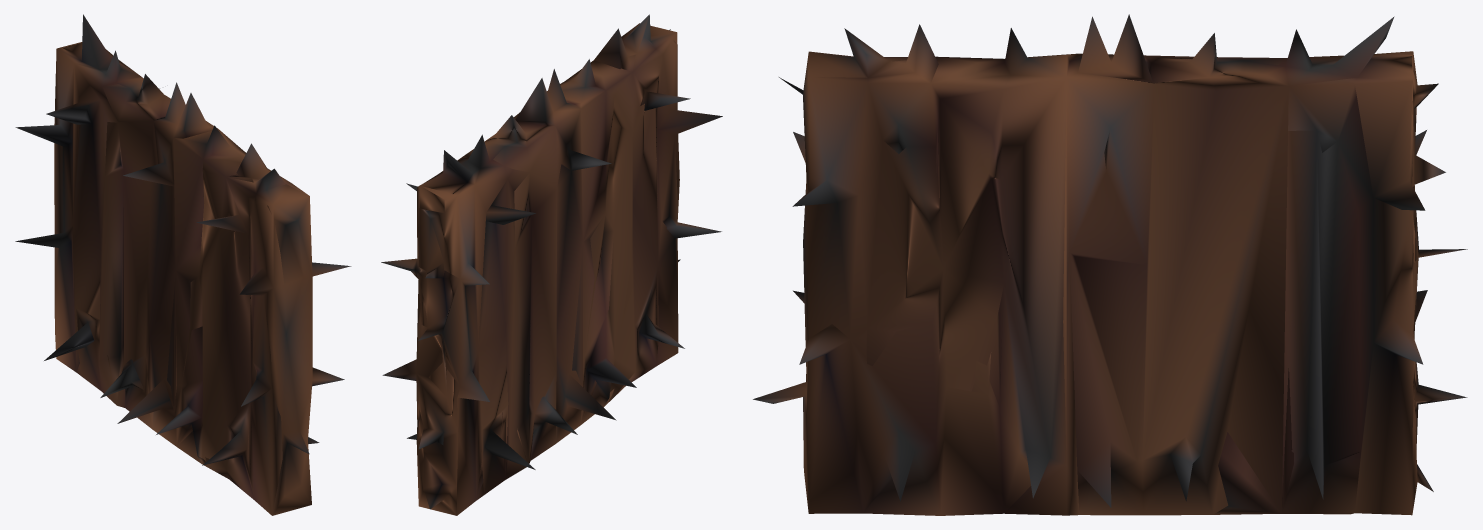
Rendered from gen3d-spike-wall-lod1.glb.
The picture shows the model from 3 angles, left to right: view 1: azimuth 30°, elevation 25°; view 2: azimuth 150°, elevation 25°; view 3: azimuth 270°, elevation 25°; orthographic projection. The views are drawn at different scales.
Parts seen in each view (by area): view 1: part_0; view 2: part_0; view 3: part_0.
Boxes of the visible parts, <box> form: part_0: <box>15,14,351,515</box>; part_0: <box>381,14,722,515</box>; part_0: <box>753,14,1467,515</box>.
Size of the model in its own units: 0.3968 by 0.9954 by 1.32.
